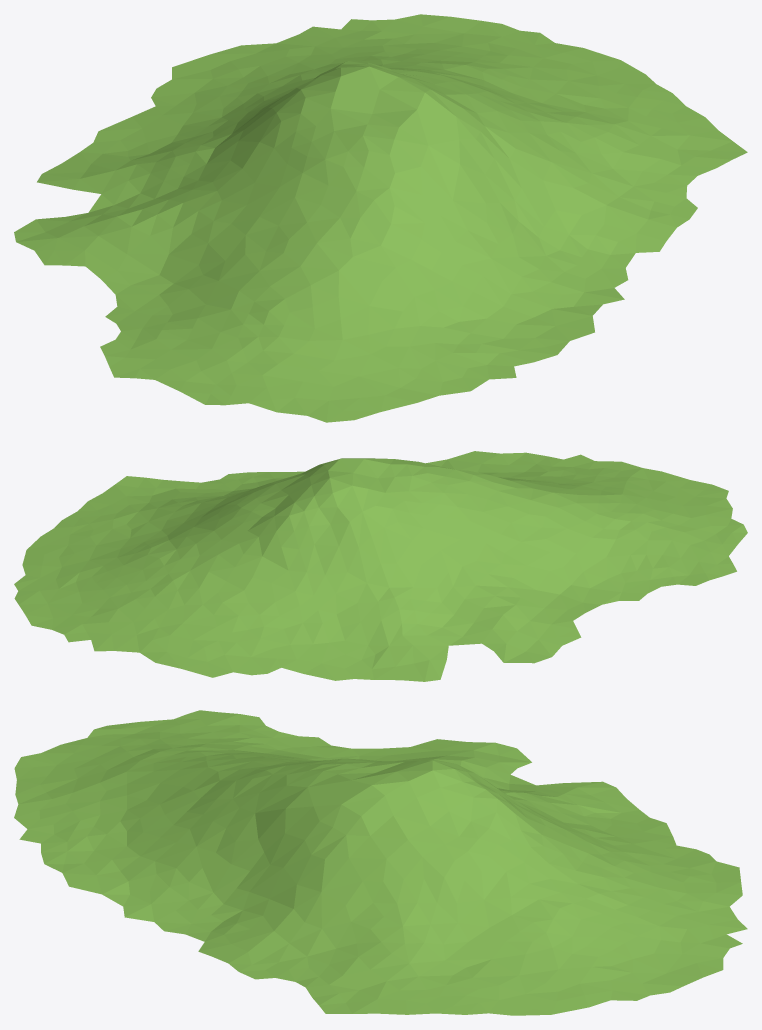
Rendered from MT_Mountain_L_a_04.fbx.
3 renders of one model, top to bottom at view 1: azimuth 30°, elevation 25°; view 2: azimuth 150°, elevation 25°; view 3: azimuth 270°, elevation 25°, orthographic. The views are drawn at different scales.
Parts seen in each view (by area): view 1: MT_Mountain_L_a_04; view 2: MT_Mountain_L_a_04; view 3: MT_Mountain_L_a_04.
Boxes of the visible parts, box(x1,y1,x2,y2) form: MT_Mountain_L_a_04: box(14, 14, 747, 422); MT_Mountain_L_a_04: box(14, 451, 747, 681); MT_Mountain_L_a_04: box(14, 710, 747, 1015).
Size of the model in its own units: 8559 by 1488 by 8660.
